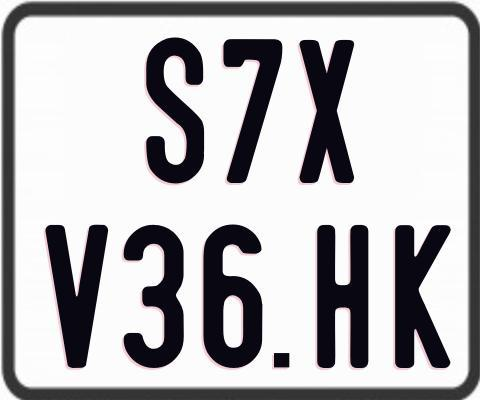3: (122, 223, 188, 367)
6: (200, 222, 259, 371)
7: (223, 36, 287, 181)
H: (314, 222, 370, 370)
K: (392, 225, 453, 371)
S: (143, 36, 206, 183)
V: (42, 222, 109, 370)
X: (297, 37, 354, 183)
